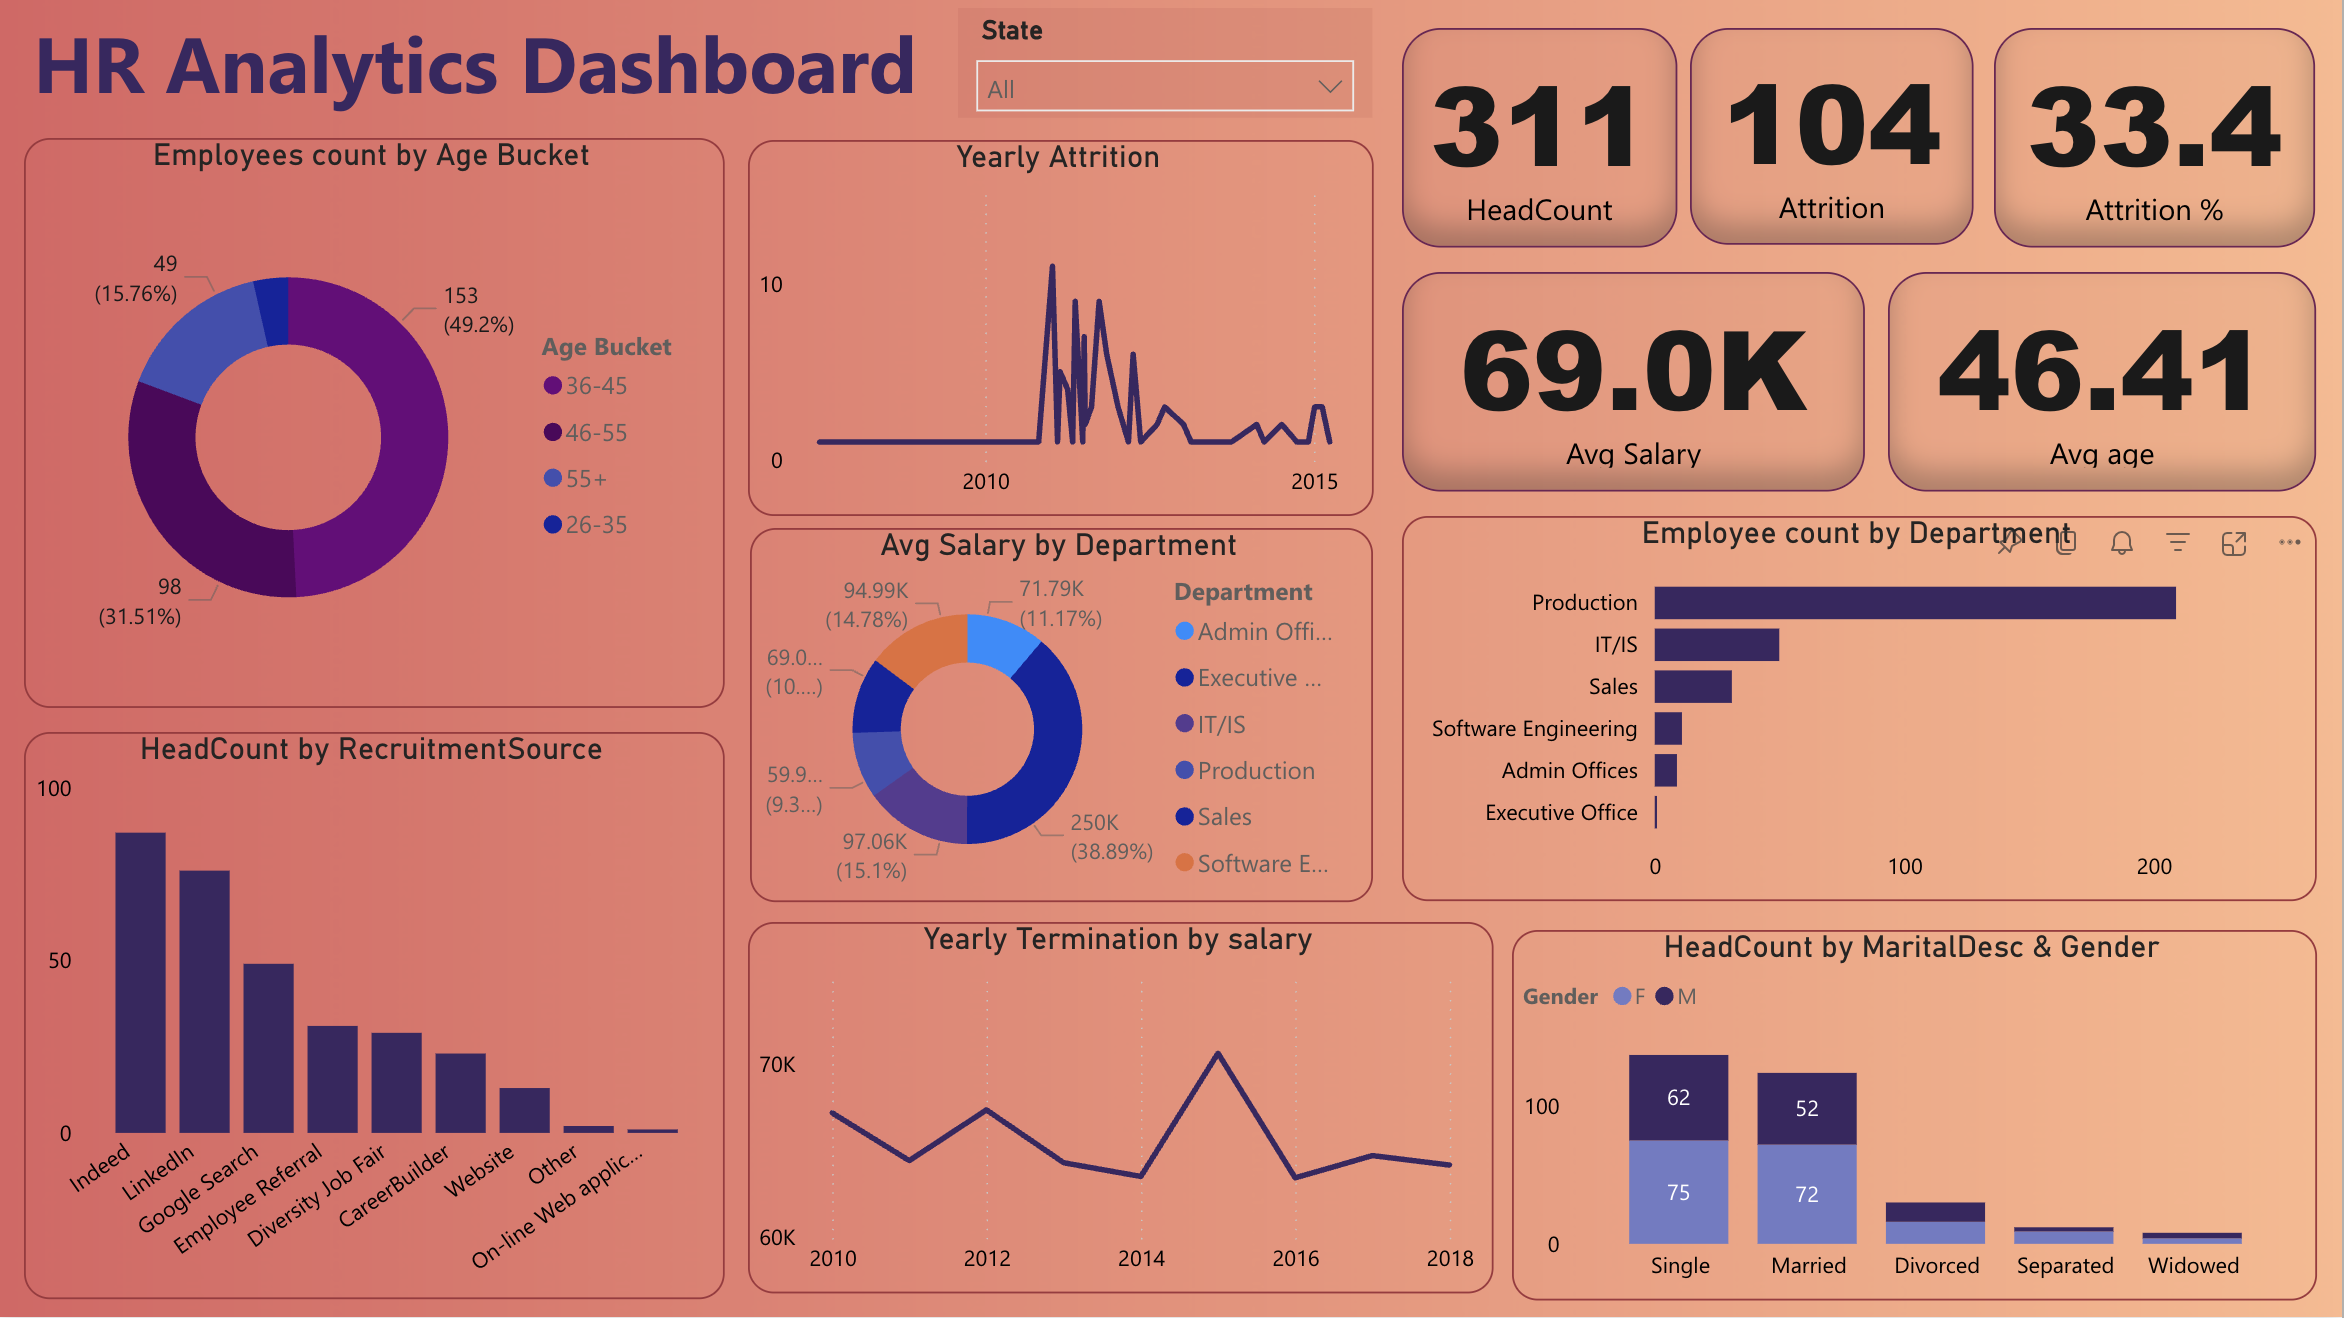

The page's visual inventory and layout, read from the dashboard file:
{"tool":"powerbi","page":{"name":"Dashboard","canvas":[1280,720],"ordinal":0},"visuals":[{"type":"textbox","box":[12.7,0,511.1,75.9],"z":0},{"type":"card","fields":{"Values":["All measures.HeadCount"]},"box":[765.8,15.8,150.3,120.2],"z":1000},{"type":"card","fields":{"Values":["All measures.Attrition"]},"box":[924,15.8,155.1,118.7],"z":2000},{"type":"card","fields":{"Values":["All measures.Attrition %"]},"box":[1090.1,15.8,175.6,120.2],"z":3000},{"type":"card","fields":{"Values":["All measures.Avg Salary"]},"box":[765.8,148.7,253.2,120.2],"z":4000},{"type":"card","fields":{"Values":["All measures.Avg age"]},"box":[1031.6,148.7,234.2,120.2],"z":5000},{"type":"clusteredBarChart","title":"Employee count by Department","fields":{"Category":["Data.Department"],"Y":["All measures.HeadCount"]},"box":[765.8,281.6,500,210.4],"z":6000},{"type":"donutChart","title":"Employees count by Age Bucket","fields":{"Y":["All measures.HeadCount"],"Category":["Data.Age Bucket"]},"box":[12.7,75.9,382.9,311.7],"z":7000},{"type":"lineChart","title":"Yearly Attrition","fields":{"Y":["All measures.Attrition"],"Category":["Data.DateofHire.Variation.Date Hierarchy.Year","Data.DateofHire.Variation.Date Hierarchy.Quarter","Data.DateofHire.Variation.Date Hierarchy.Month","Data.DateofHire.Variation.Date Hierarchy.Day"]},"box":[408.8,76,341.9,205.7],"z":8000},{"type":"clusteredColumnChart","fields":{"Category":["Data.RecruitmentSource"],"Y":["All measures.HeadCount"]},"box":[12.7,400.3,382.9,310.1],"z":9000},{"type":"lineChart","title":"Yearly Termination by salary","fields":{"Category":["Data.DateofTermination.Variation.Date Hierarchy.Year"],"Y":["All measures.Avg Salary"]},"box":[408.8,504.4,407.5,203.1],"z":10000},{"type":"columnChart","title":"HeadCount by MaritalDesc & Gender","fields":{"Category":["Data.MaritalDesc"],"Y":["All measures.HeadCount"],"Series":["Data.Gender"]},"box":[825.9,507.9,439.9,202.5],"z":11000},{"type":"donutChart","fields":{"Series":["Data.Department"],"Y":["All measures.Avg Salary"]},"box":[410.1,288.2,340.6,204.4],"z":12000},{"type":"slicer","fields":{"Values":["Data.State(Full Form)"]},"box":[523.7,4.7,226.3,60.1],"z":13000}]}

Visuals, with their boxes in screenshot pixels (x1, y1, x2, y2), scaled from the page's 1280x720 canvas onto the 2344x1318 screenshot:
textbox: <bbox>23, 0, 959, 139</bbox>
card - All measures.HeadCount: <bbox>1402, 29, 1678, 249</bbox>
card - All measures.Attrition: <bbox>1692, 29, 1976, 246</bbox>
card - All measures.Attrition %: <bbox>1996, 29, 2318, 249</bbox>
card - All measures.Avg Salary: <bbox>1402, 272, 1866, 492</bbox>
card - All measures.Avg age: <bbox>1889, 272, 2318, 492</bbox>
"Employee count by Department" clusteredBarChart: <bbox>1402, 515, 2318, 901</bbox>
"Employees count by Age Bucket" donutChart: <bbox>23, 139, 724, 710</bbox>
"Yearly Attrition" lineChart: <bbox>749, 139, 1375, 516</bbox>
clusteredColumnChart - Data.RecruitmentSource x All measures.HeadCount: <bbox>23, 733, 724, 1300</bbox>
"Yearly Termination by salary" lineChart: <bbox>749, 923, 1495, 1295</bbox>
"HeadCount by MaritalDesc & Gender" columnChart: <bbox>1512, 930, 2318, 1300</bbox>
donutChart - Data.Department x All measures.Avg Salary: <bbox>751, 528, 1375, 902</bbox>
slicer - Data.State(Full Form): <bbox>959, 9, 1373, 119</bbox>
